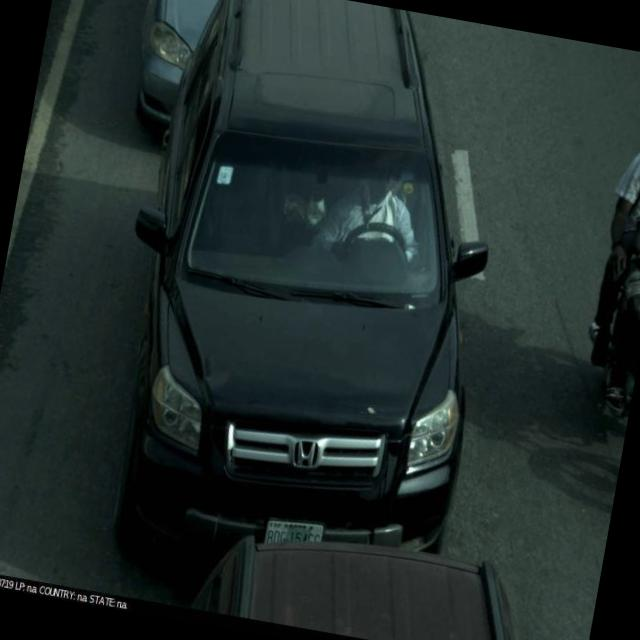person_without_seatbelt: (322, 165, 417, 262)
